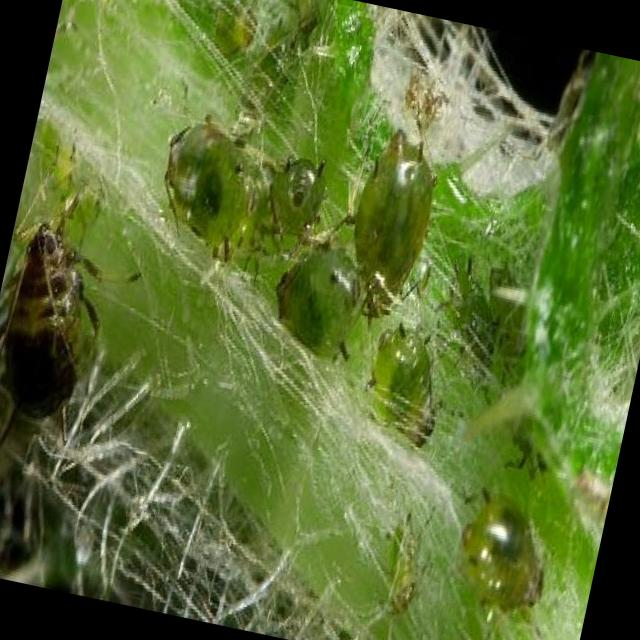aphid: (141, 102, 339, 272), (0, 194, 121, 453), (321, 124, 447, 331), (436, 486, 563, 640), (433, 242, 546, 383), (258, 235, 366, 362), (352, 317, 452, 447), (372, 493, 432, 627), (486, 407, 560, 482)
